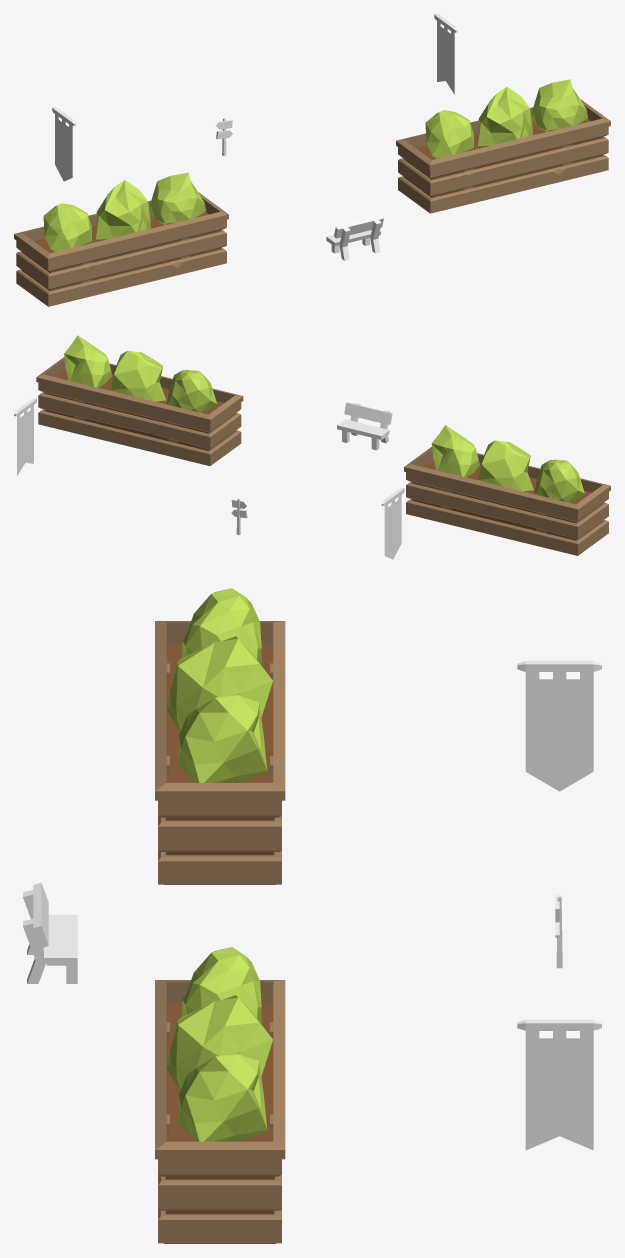
The model's file is combo-wayfinding-node.glb.
The picture shows the model from 3 angles, top to bottom: view 1: azimuth 30°, elevation 25°; view 2: azimuth 150°, elevation 25°; view 3: azimuth 270°, elevation 25°; orthographic projection. The views are drawn at different scales.
Visible parts, largest first — view 1: asset-072_6, asset-072_3, asset-072_5, asset-072_8, asset-099_2, asset-100_1, asset-072_7, asset-072_4, asset-096_10, asset-096_9; view 2: asset-072_6, asset-072_3, asset-072_5, asset-072_8, asset-096_10, asset-072_4, asset-072_7, asset-100_1, asset-099_2, asset-096_9, asset-090_0; view 3: asset-072_6, asset-072_3, asset-072_8, asset-072_5, asset-099_2, asset-100_1, asset-072_7, asset-072_4, asset-096_10, asset-096_9.
Boxes of the visible parts, bbox=[...] form: asset-072_6: bbox=[396, 99, 610, 213]; asset-072_3: bbox=[14, 192, 228, 306]; asset-072_5: bbox=[43, 172, 205, 251]; asset-072_8: bbox=[425, 79, 587, 158]; asset-099_2: bbox=[434, 14, 457, 94]; asset-100_1: bbox=[52, 107, 75, 181]; asset-072_7: bbox=[404, 118, 602, 197]; asset-072_4: bbox=[22, 212, 220, 290]; asset-096_10: bbox=[326, 215, 383, 246]; asset-096_9: bbox=[331, 219, 381, 260]; asset-072_6: bbox=[36, 357, 243, 465]; asset-072_3: bbox=[404, 447, 610, 555]; asset-072_5: bbox=[431, 425, 584, 502]; asset-072_8: bbox=[64, 335, 216, 412]; asset-096_10: bbox=[337, 402, 392, 439]; asset-072_4: bbox=[411, 459, 603, 540]; asset-072_7: bbox=[44, 370, 235, 450]; asset-100_1: bbox=[381, 488, 404, 559]; asset-099_2: bbox=[14, 398, 36, 475]; asset-096_9: bbox=[342, 403, 390, 450]; asset-090_0: bbox=[231, 498, 247, 535]; asset-072_6: bbox=[155, 980, 285, 1243]; asset-072_3: bbox=[155, 621, 285, 884]; asset-072_8: bbox=[166, 947, 272, 1141]; asset-072_5: bbox=[166, 588, 272, 782]; asset-099_2: bbox=[517, 1019, 601, 1150]; asset-100_1: bbox=[517, 660, 601, 791]; asset-072_7: bbox=[165, 1002, 274, 1214]; asset-072_4: bbox=[165, 644, 274, 855]; asset-096_10: bbox=[33, 882, 77, 965]; asset-096_9: bbox=[23, 890, 77, 983].
Size of the model in its own units: 7.37 by 1.12 by 3.41.
